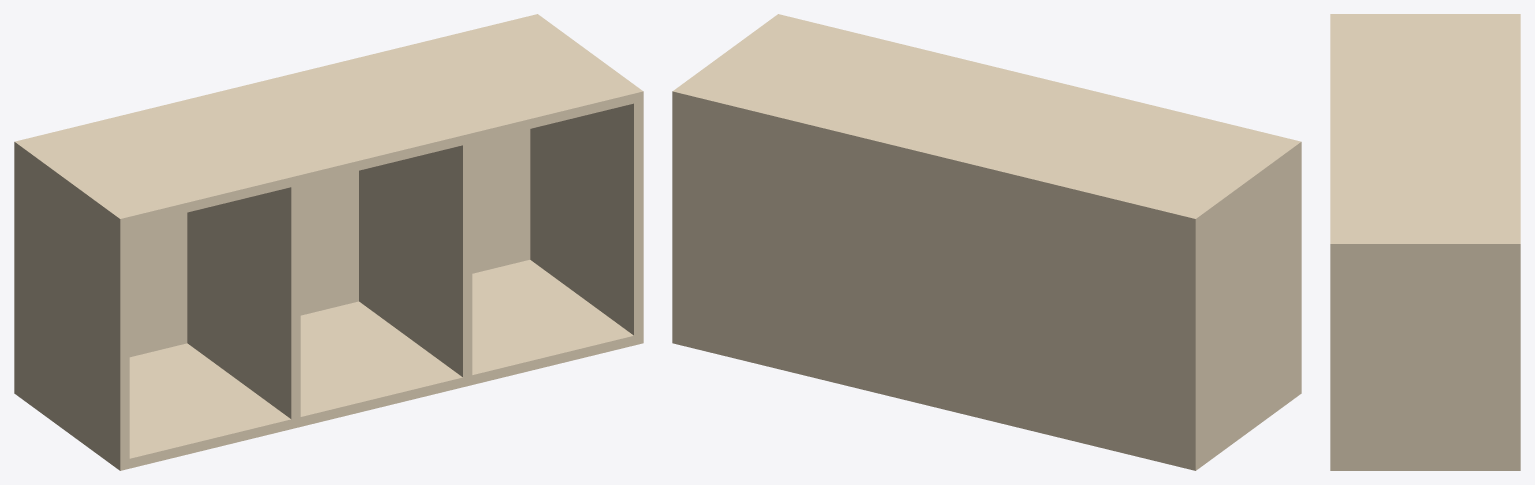
Rendered from natural.glb.
The picture shows the model from 3 angles, left to right: view 1: azimuth 30°, elevation 25°; view 2: azimuth 150°, elevation 25°; view 3: azimuth 270°, elevation 25°; orthographic projection. The views are drawn at different scales.
Parts seen in each view (by area): view 1: top.1, bottom.1, side.1, back.1, side.2, divider.2, divider.1; view 2: back.1, top.1, side.1; view 3: top.1, side.2, back.1.
Part boxes in pixels (x1,y1,x2,y2): top.1: (14, 14, 643, 228); bottom.1: (129, 260, 633, 468); side.1: (16, 153, 129, 470); back.1: (14, 129, 530, 394); side.2: (530, 101, 643, 345); divider.2: (359, 143, 472, 377); divider.1: (187, 185, 300, 419); back.1: (672, 101, 1197, 470); top.1: (672, 14, 1301, 228); side.1: (1197, 151, 1301, 468); top.1: (1330, 14, 1520, 252); side.2: (1330, 253, 1517, 470); back.1: (1517, 253, 1520, 470).
Bounding box in the file's own units: 1 × 0.46 × 0.35.
